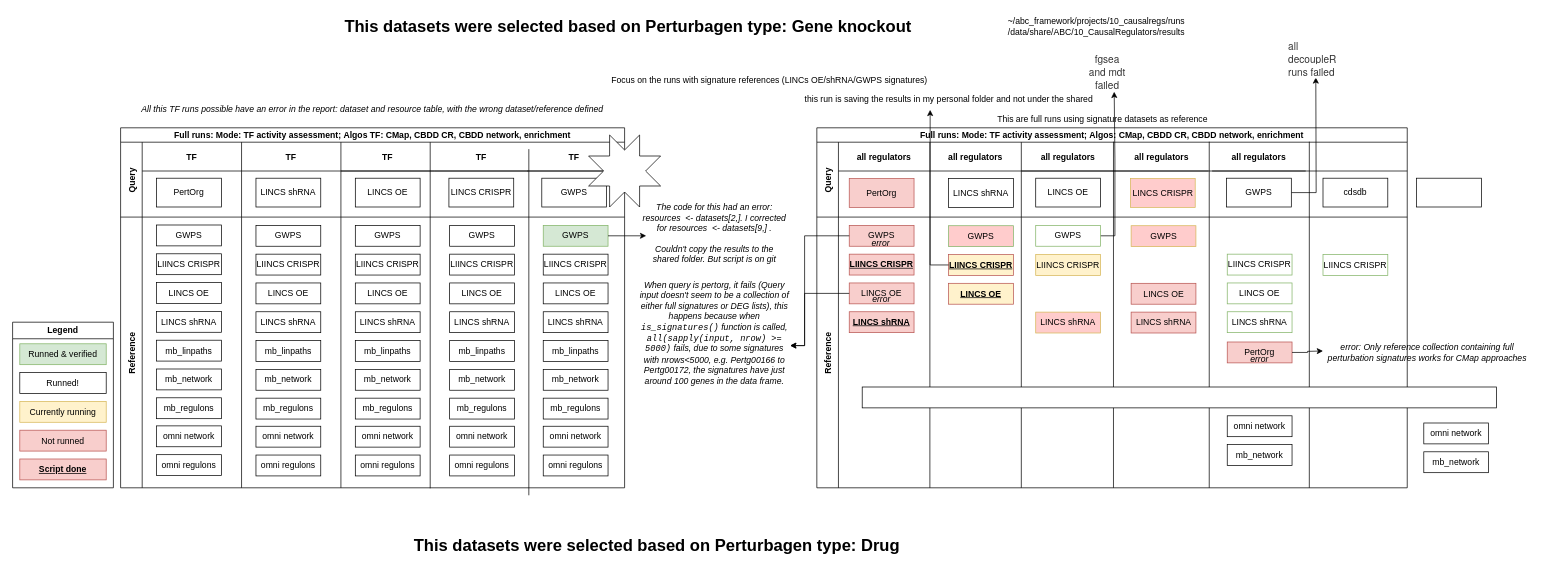
The diagram is 1552 pixels wide and 572 high, and some of its shapes have lost their labels. The centre of each missing label's shape, as x and y in pixels:
"Alex will run ref network things little by little" goes at (x=1179, y=397).
"ATENTION gwps_signatures" goes at (x=624, y=170).
"sciplex" goes at (x=1448, y=192).
